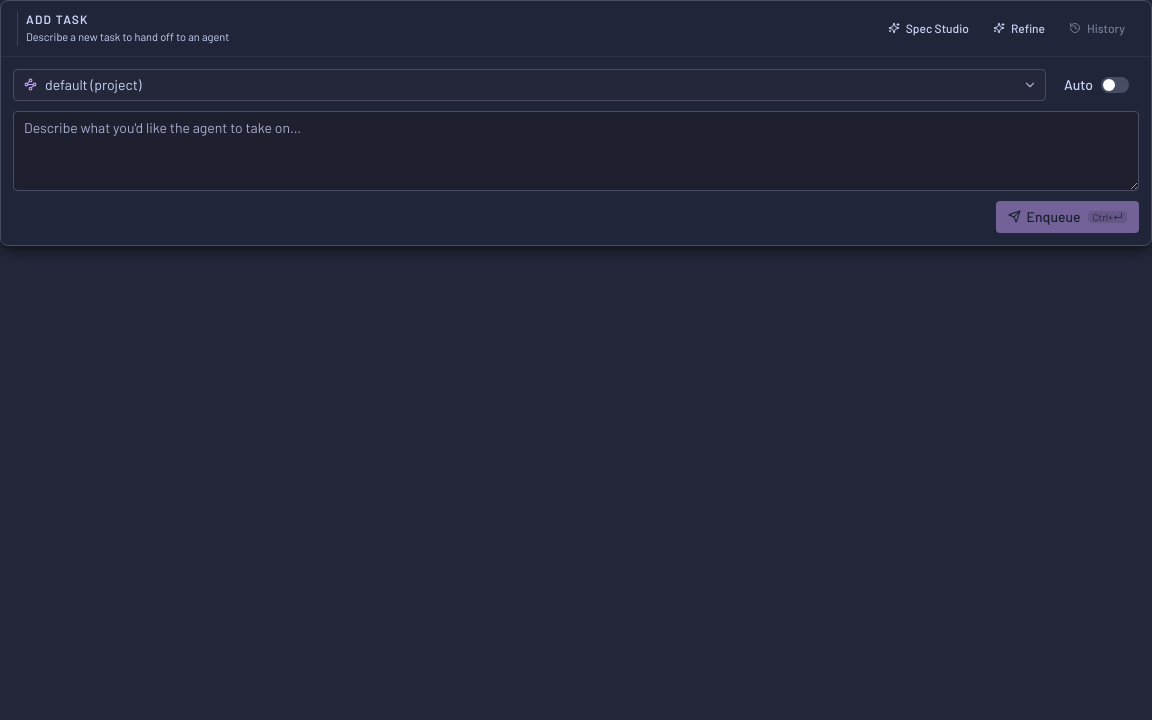
Test: PromptComposer composer assist handoff › records replace metric when conflict dialog replaces body
Type "Existing task draft." into the text box with placeholder "Describe what you'd like the agent to take on…" at [576, 150], box left=13, top=110, right=1139, bottom=190
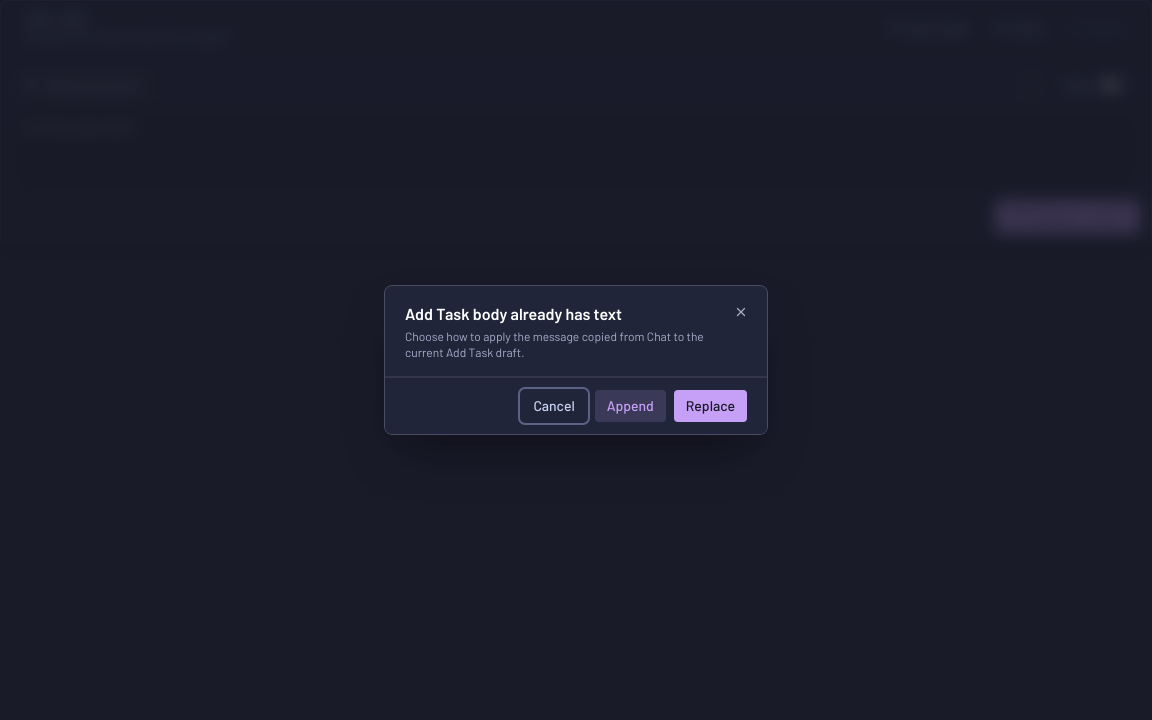
expect the heading "Add Task body already has text" is shown: met, box left=405, top=304, right=622, bottom=323
Click the button "Replace" at [710, 406], box left=674, top=390, right=747, bottom=422
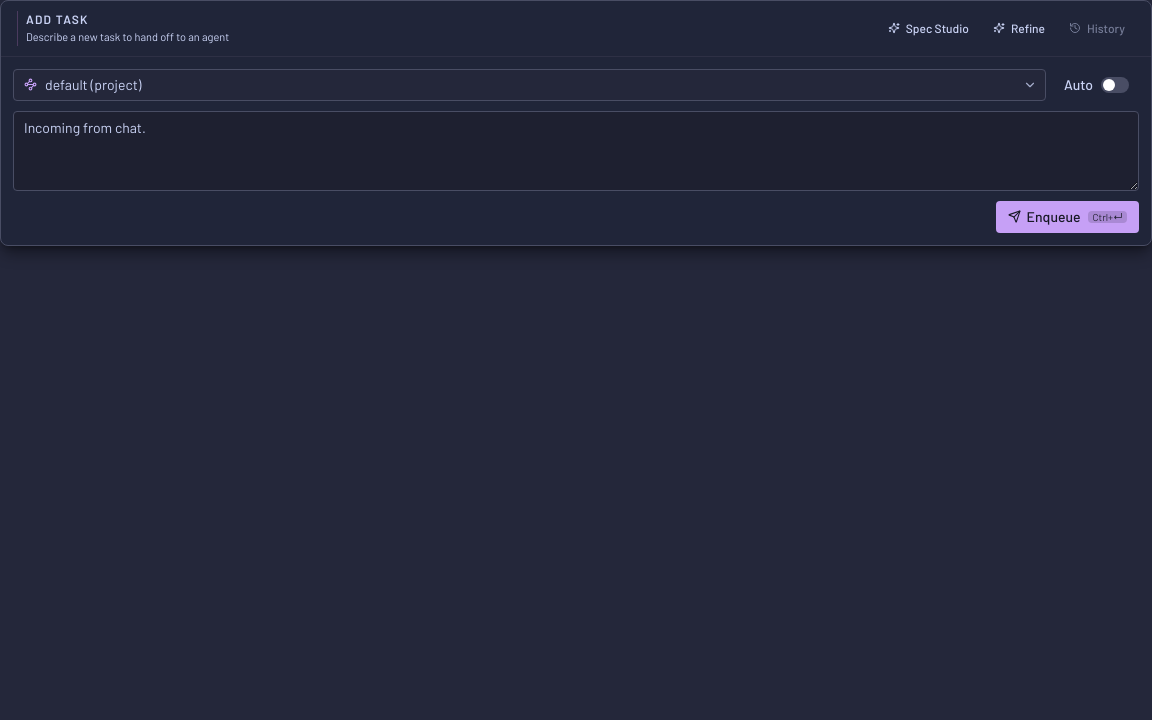
expect the text box showing "Incoming from chat." is shown: met, box left=13, top=110, right=1139, bottom=190
